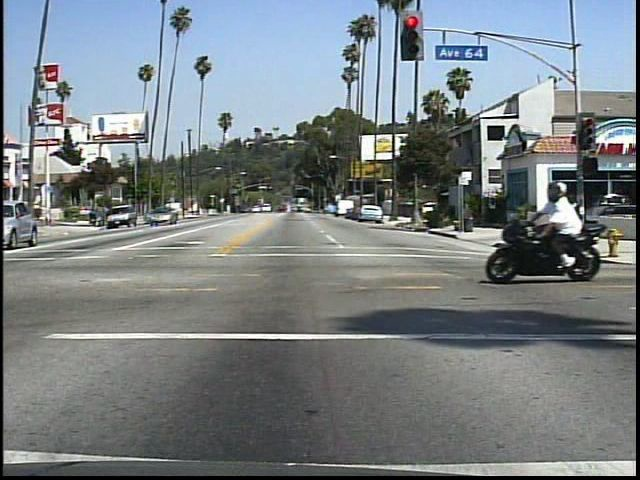person: (533, 176, 594, 281), (547, 191, 574, 244)
